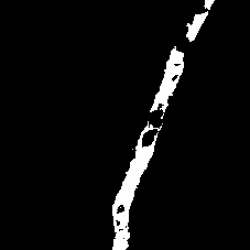crack: (105, 2, 214, 247)
